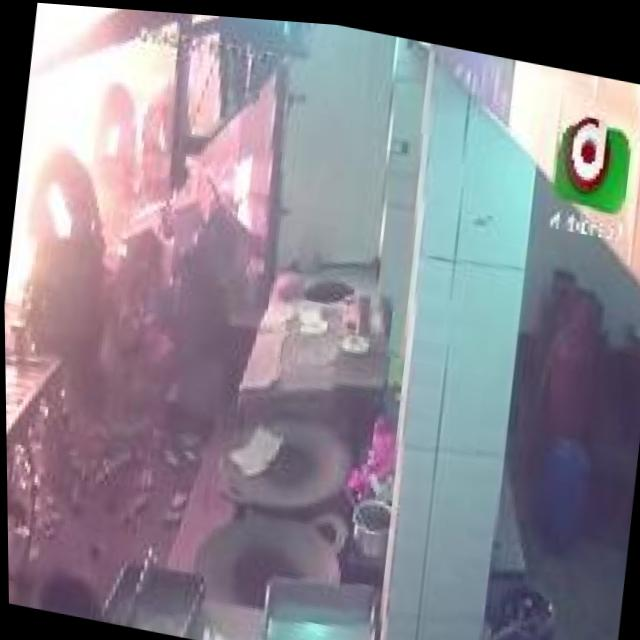fire: (0, 0, 167, 322)
